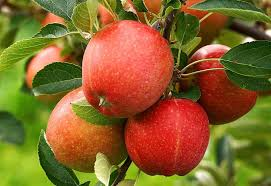apple: (46, 87, 131, 174)
